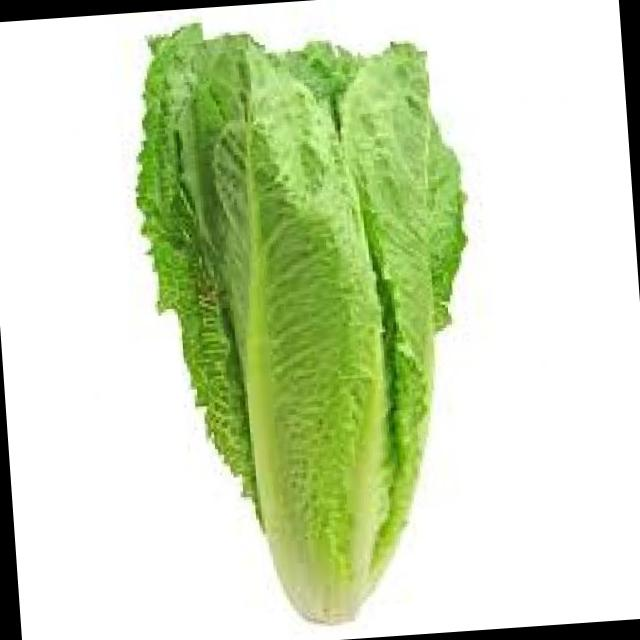Lettuce-Ready-to-Harvest: (139, 25, 464, 621)
